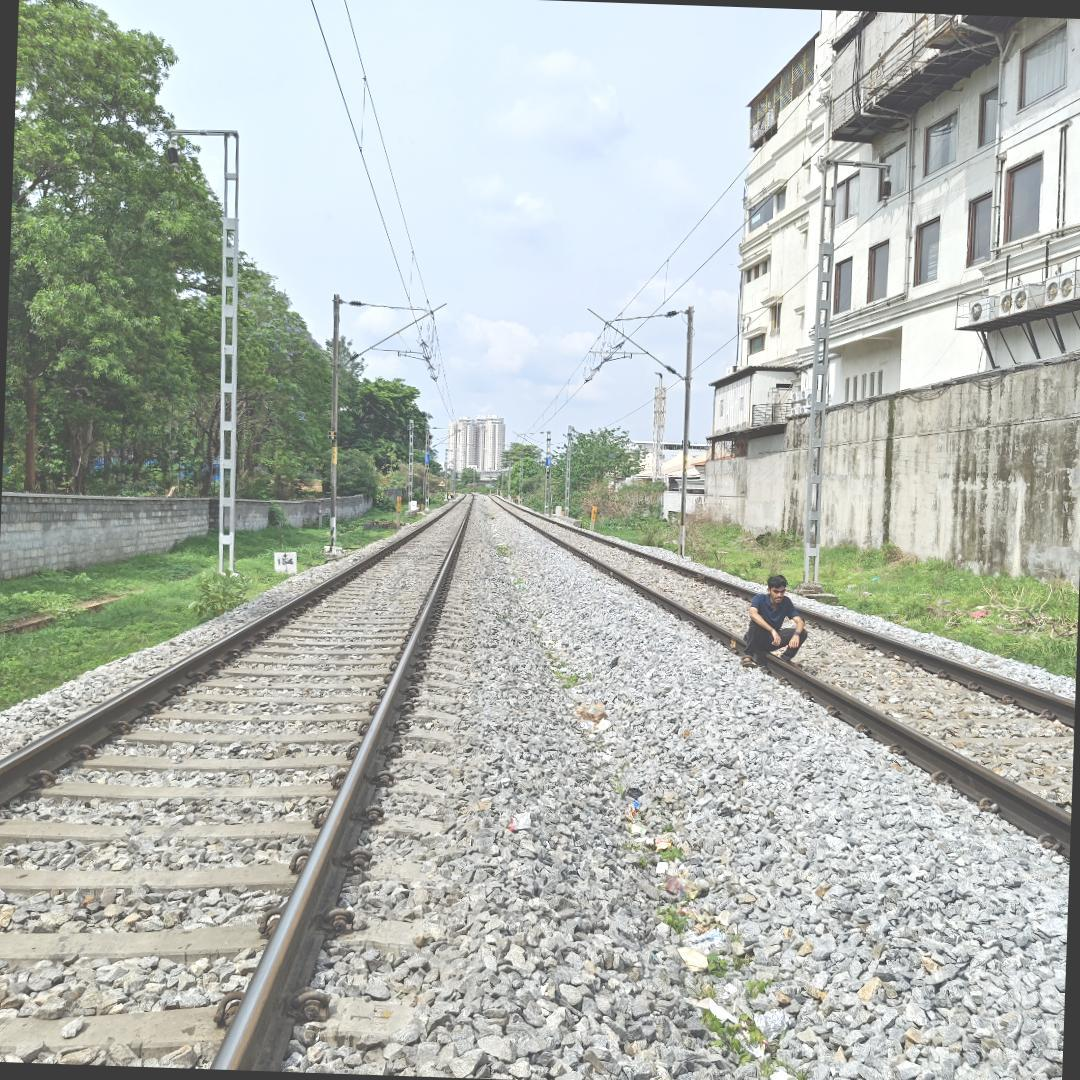sitting: (728, 556, 821, 691)
track: (0, 495, 491, 1074), (500, 515, 1076, 947)
